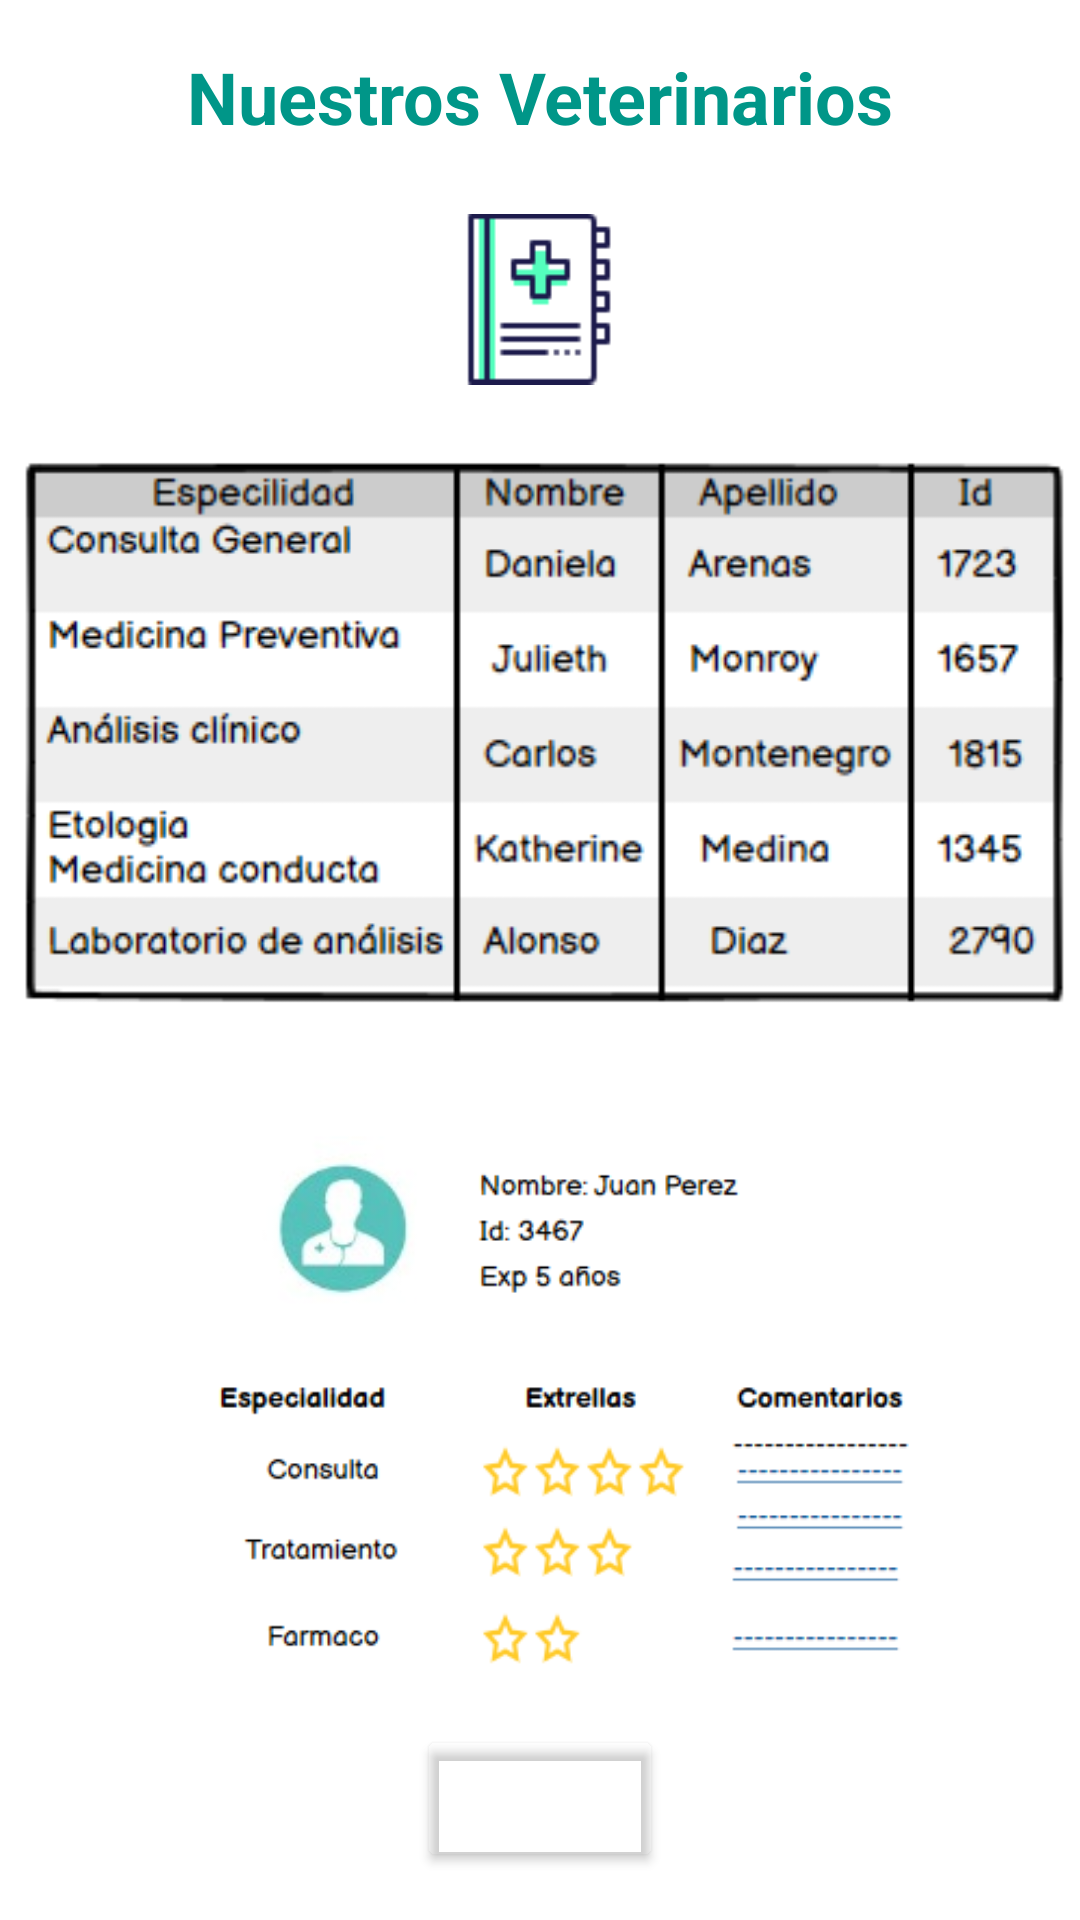

Icon click points for this 1080x1920 phone screenshot, format (x,y):
agenda: (539,299)
